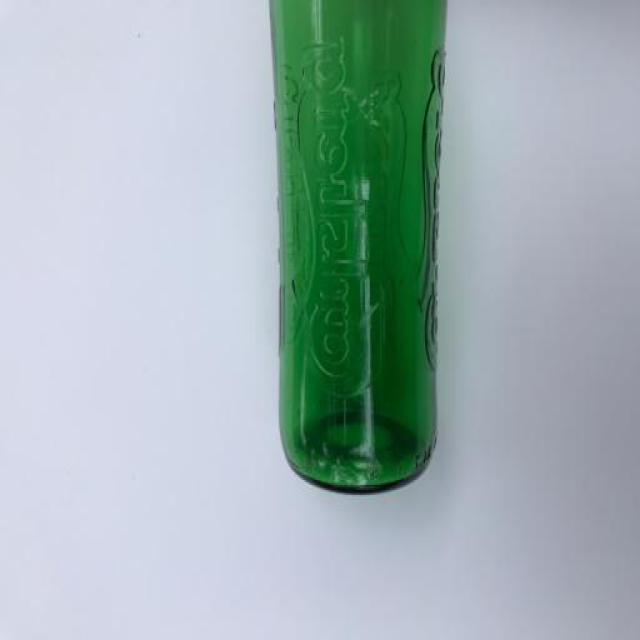glass: (272, 0, 451, 494)
